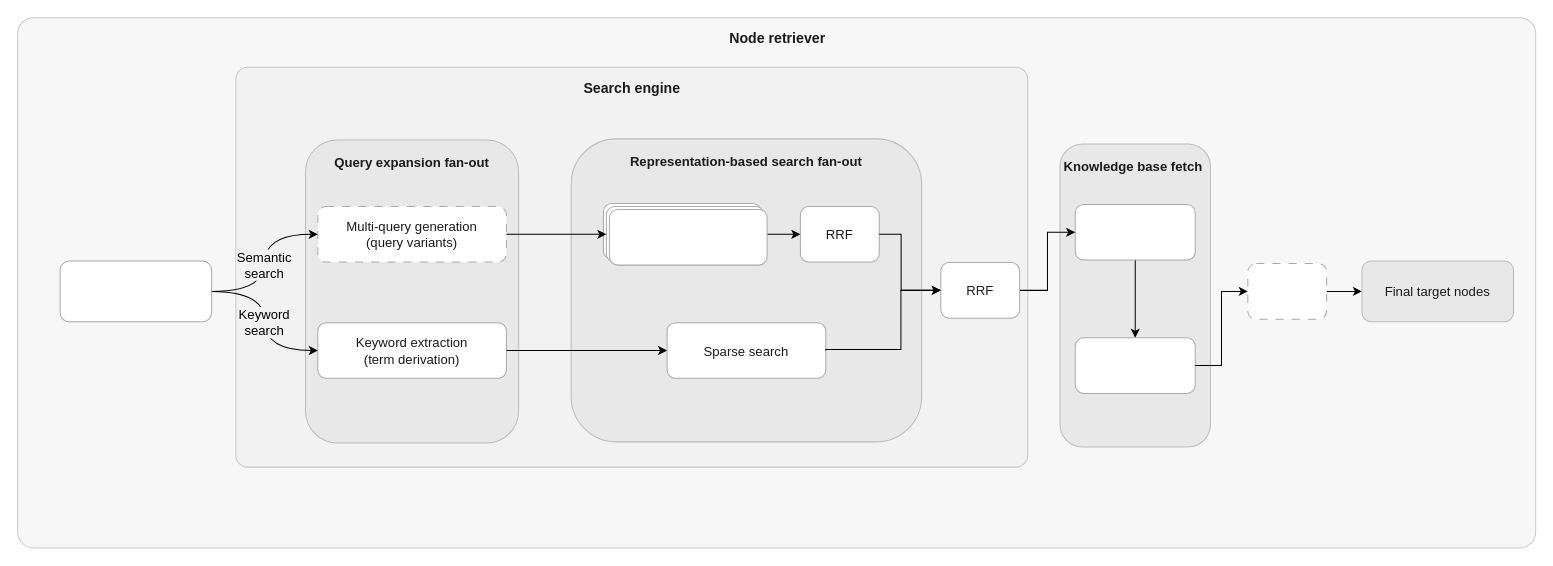
Image size: 1553x566. Some labels were removed from this diagram. Here are the shapes that lost their labels. From the top down, the centre of each, then its label:
At point (687, 237): "Dense search fan-out (per query variant)".
At point (1134, 232): "Fetch direct hits".
At point (135, 291): "Source node (Identification pass)".
At point (1287, 291): "Reranking".
At point (1134, 365): "Expand with neighbours".
